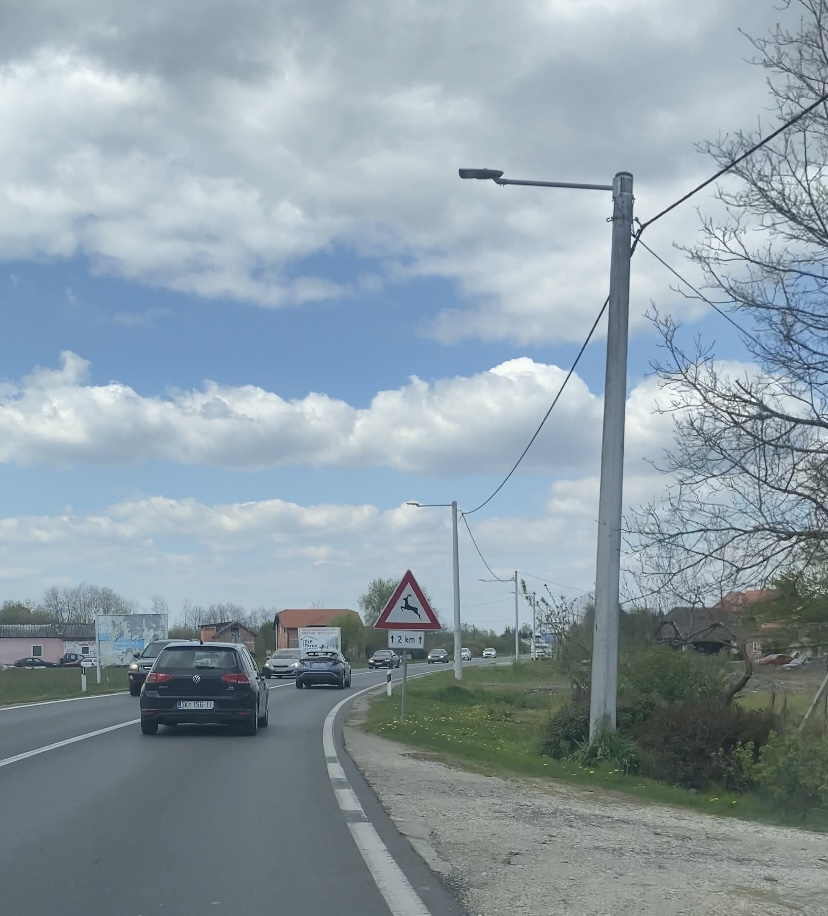Divljač na cesti: (373, 569, 443, 631)
